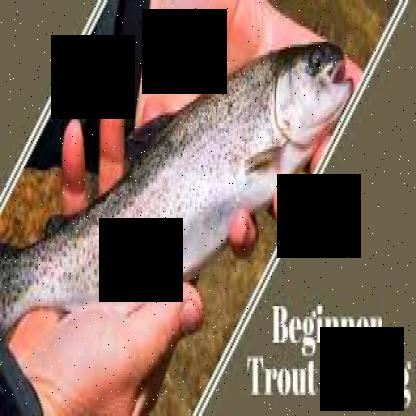fish: (1, 32, 356, 329)
